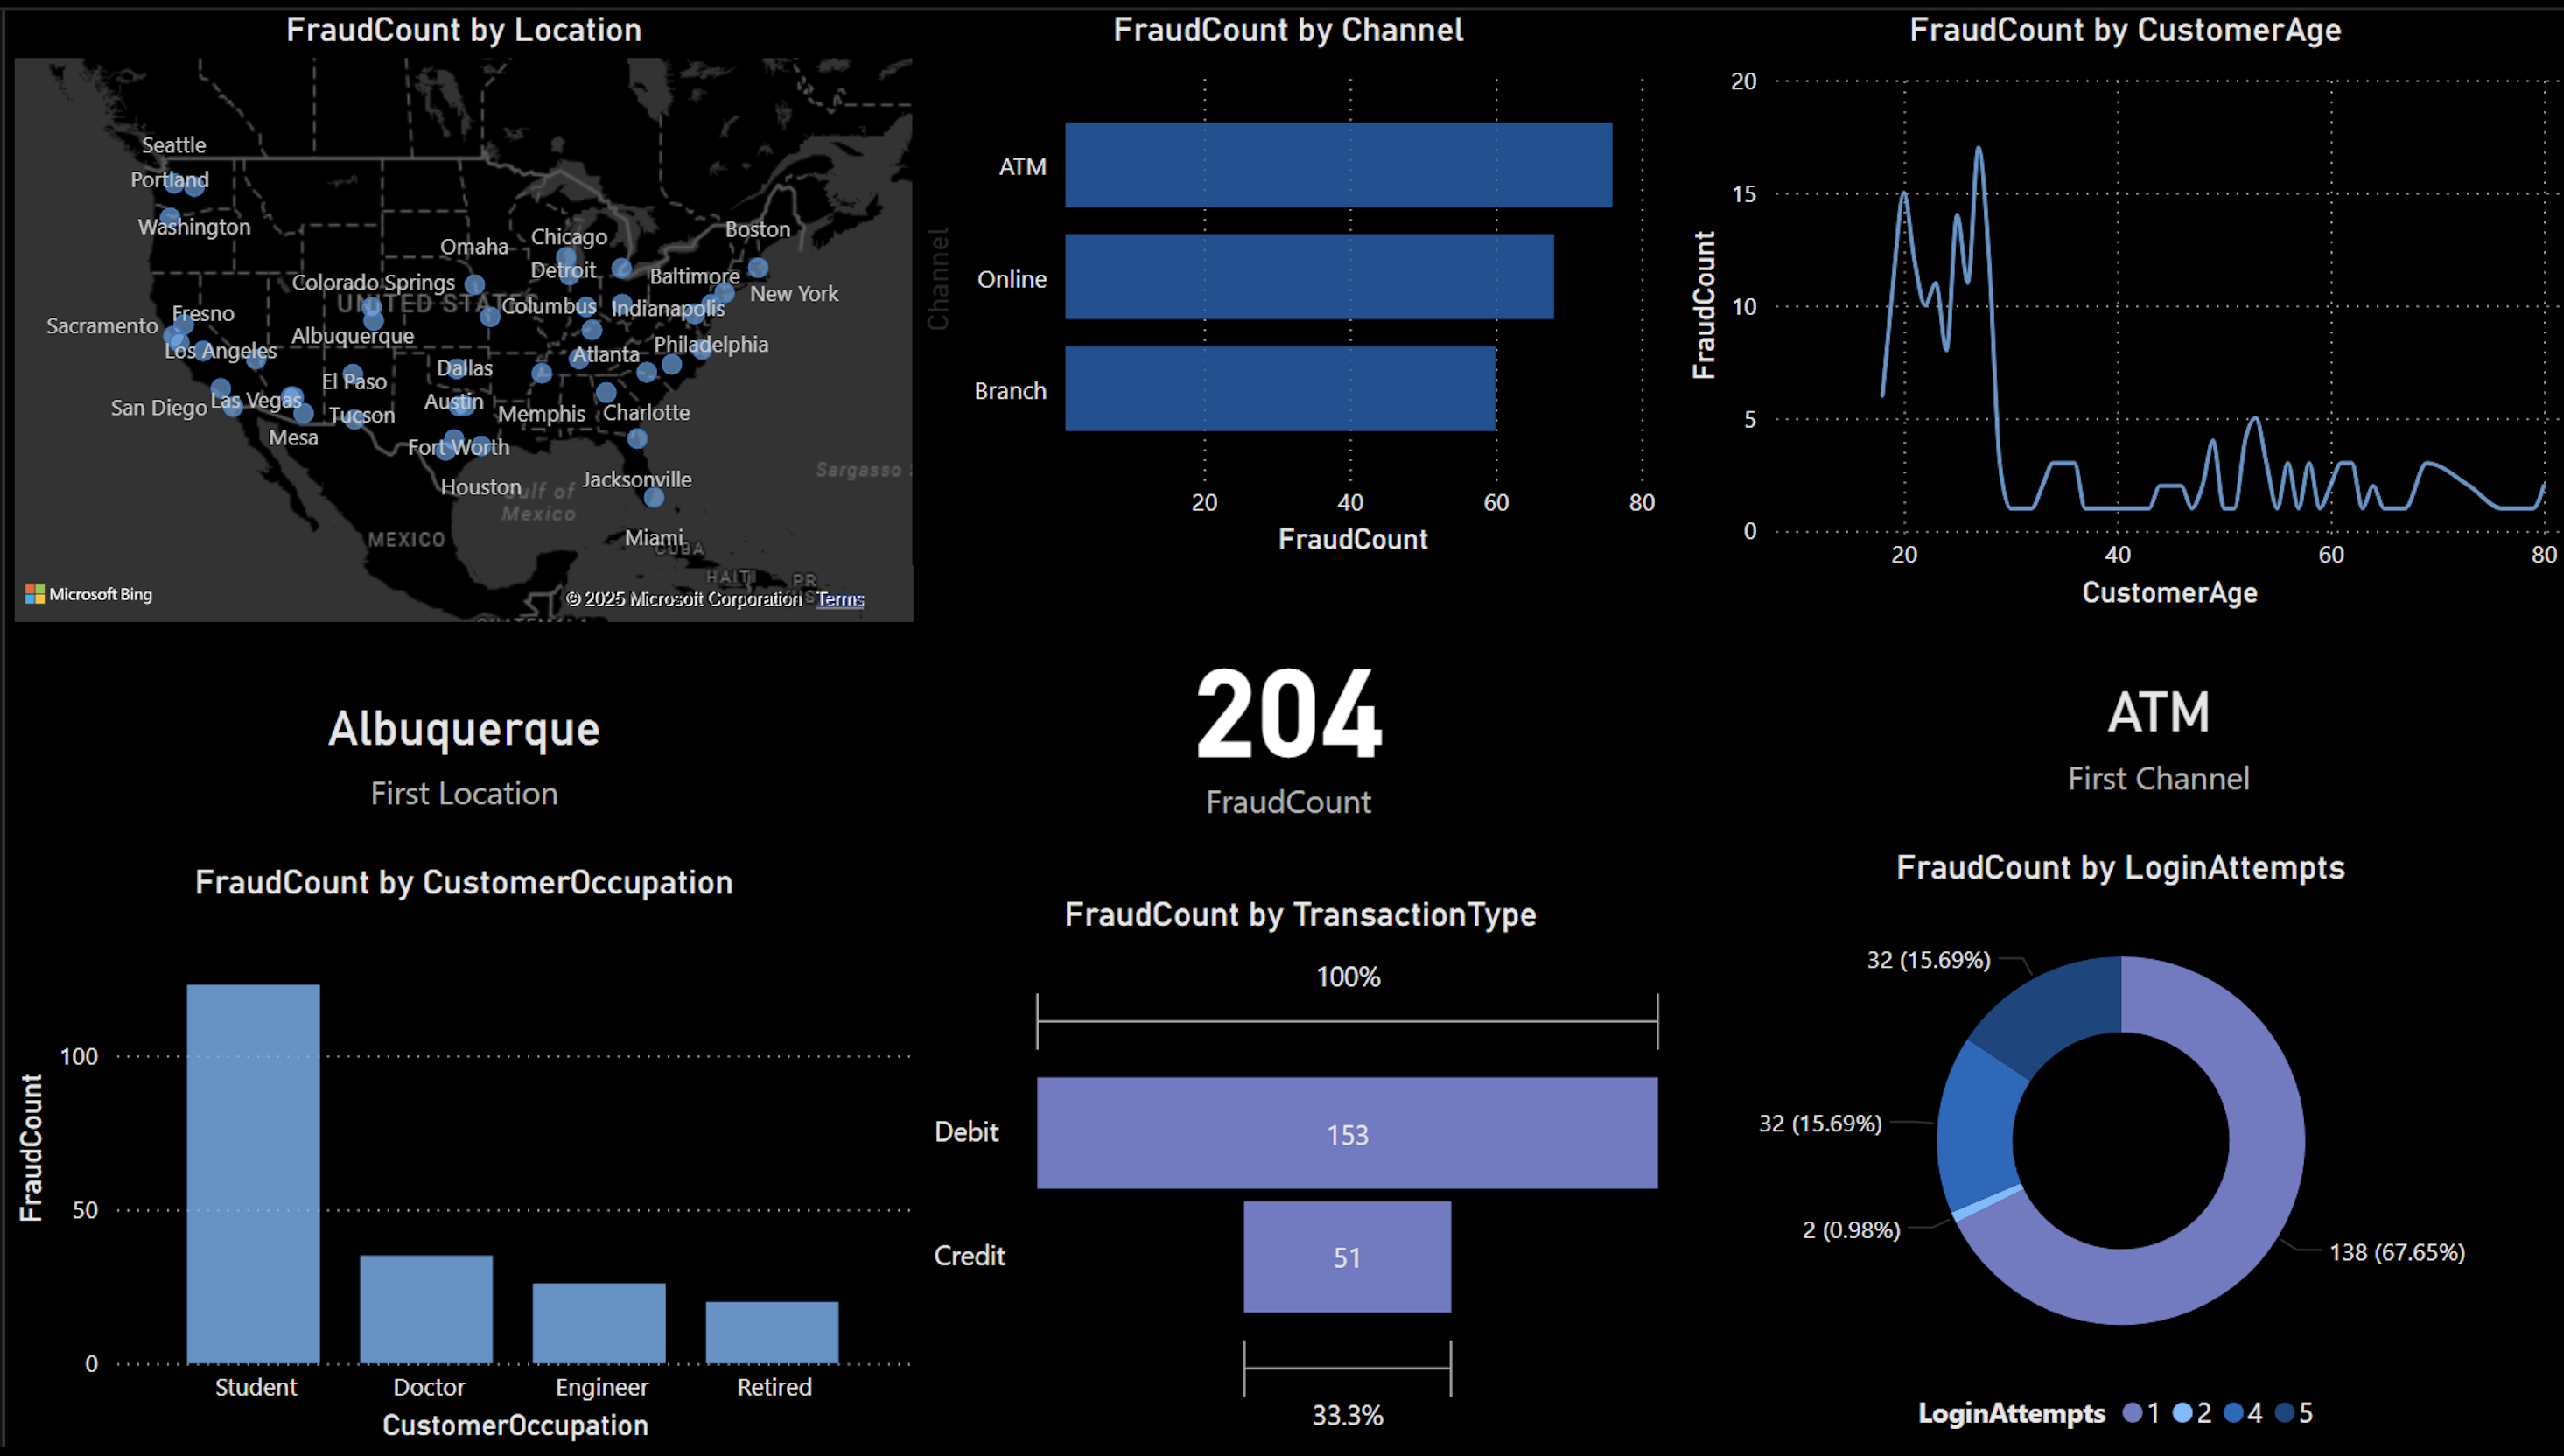

Layout of this report page (visuals, bound fields, positions):
{"tool":"powerbi","page":{"name":"Page 5","canvas":[1280,720],"ordinal":0},"visuals":[{"type":"map","fields":{"Category":["Online Banking Scam.Location"]},"box":[0,0,458.8,311.2],"z":0},{"type":"funnel","fields":{"Category":["Online Banking Scam.TransactionType"],"Y":["Online Banking Scam.FraudCount"]},"box":[458.8,442.5,376.2,278.8],"z":1000},{"type":"lineChart","fields":{"Category":["Online Banking Scam.CustomerAge"],"Y":["Online Banking Scam.FraudCount"]},"box":[835,0,447.5,303.8],"z":2000},{"type":"donutChart","fields":{"Series":["Online Banking Scam.LoginAttempts"],"Y":["Online Banking Scam.FraudCount"]},"box":[832.5,418.8,447.5,301.2],"z":3000},{"type":"clusteredColumnChart","fields":{"Category":["Online Banking Scam.CustomerOccupation"],"Y":["Online Banking Scam.FraudCount"]},"box":[0,426.2,458.8,293.8],"z":4000},{"type":"card","fields":{"Values":["Online Banking Scam.FraudCount"]},"box":[458.8,298.8,363.8,111.2],"z":5000},{"type":"card","fields":{"Values":["Min(Online Banking Scam.Location)"]},"box":[55,327.5,350,81.2],"z":6000},{"type":"barChart","fields":{"Category":["Online Banking Scam.Channel"],"Y":["Online Banking Scam.FraudCount"]},"box":[452.5,0,376.2,277.5],"z":7000},{"type":"card","fields":{"Values":["Min(Online Banking Scam.Channel)"]},"box":[926.2,311.2,300,97.5],"z":8000}]}

Visuals, with their boxes in screenshot pixels (x1, y1, x2, y2), scaled from the page's 1280x720 canvas onto the 2564x1456 screenshot:
map - Online Banking Scam.Location: box(0, 0, 919, 629)
funnel - Online Banking Scam.TransactionType x Online Banking Scam.FraudCount: box(919, 895, 1672, 1455)
lineChart - Online Banking Scam.CustomerAge x Online Banking Scam.FraudCount: box(1672, 0, 2563, 614)
donutChart - Online Banking Scam.LoginAttempts x Online Banking Scam.FraudCount: box(1668, 847, 2563, 1455)
clusteredColumnChart - Online Banking Scam.CustomerOccupation x Online Banking Scam.FraudCount: box(0, 862, 919, 1455)
card - Online Banking Scam.FraudCount: box(919, 605, 1648, 829)
card - Min(Online Banking Scam.Location): box(110, 662, 811, 827)
barChart - Online Banking Scam.Channel x Online Banking Scam.FraudCount: box(907, 0, 1660, 561)
card - Min(Online Banking Scam.Channel): box(1855, 629, 2456, 827)
